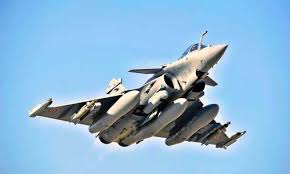fighter: (24, 27, 252, 151)
